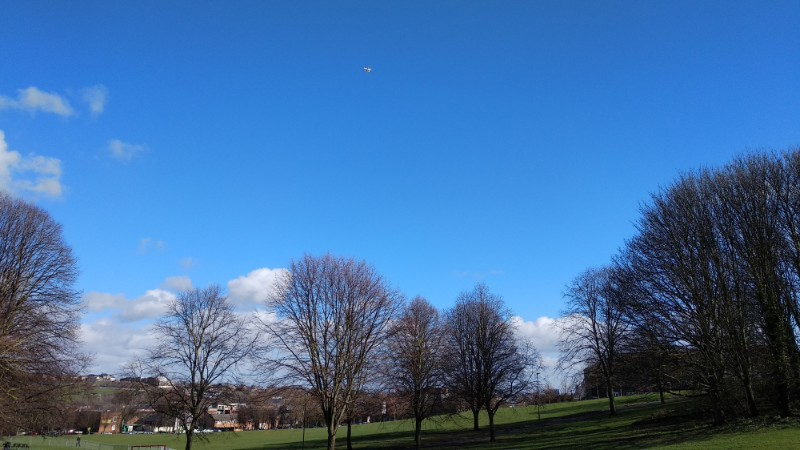drone: (361, 64, 374, 74)
